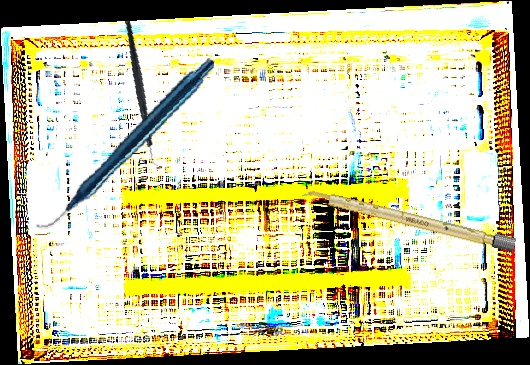Chopper: (101, 20, 187, 170)
Handpiece: (13, 57, 236, 231)
Scalpel Handle: (300, 185, 517, 253)
